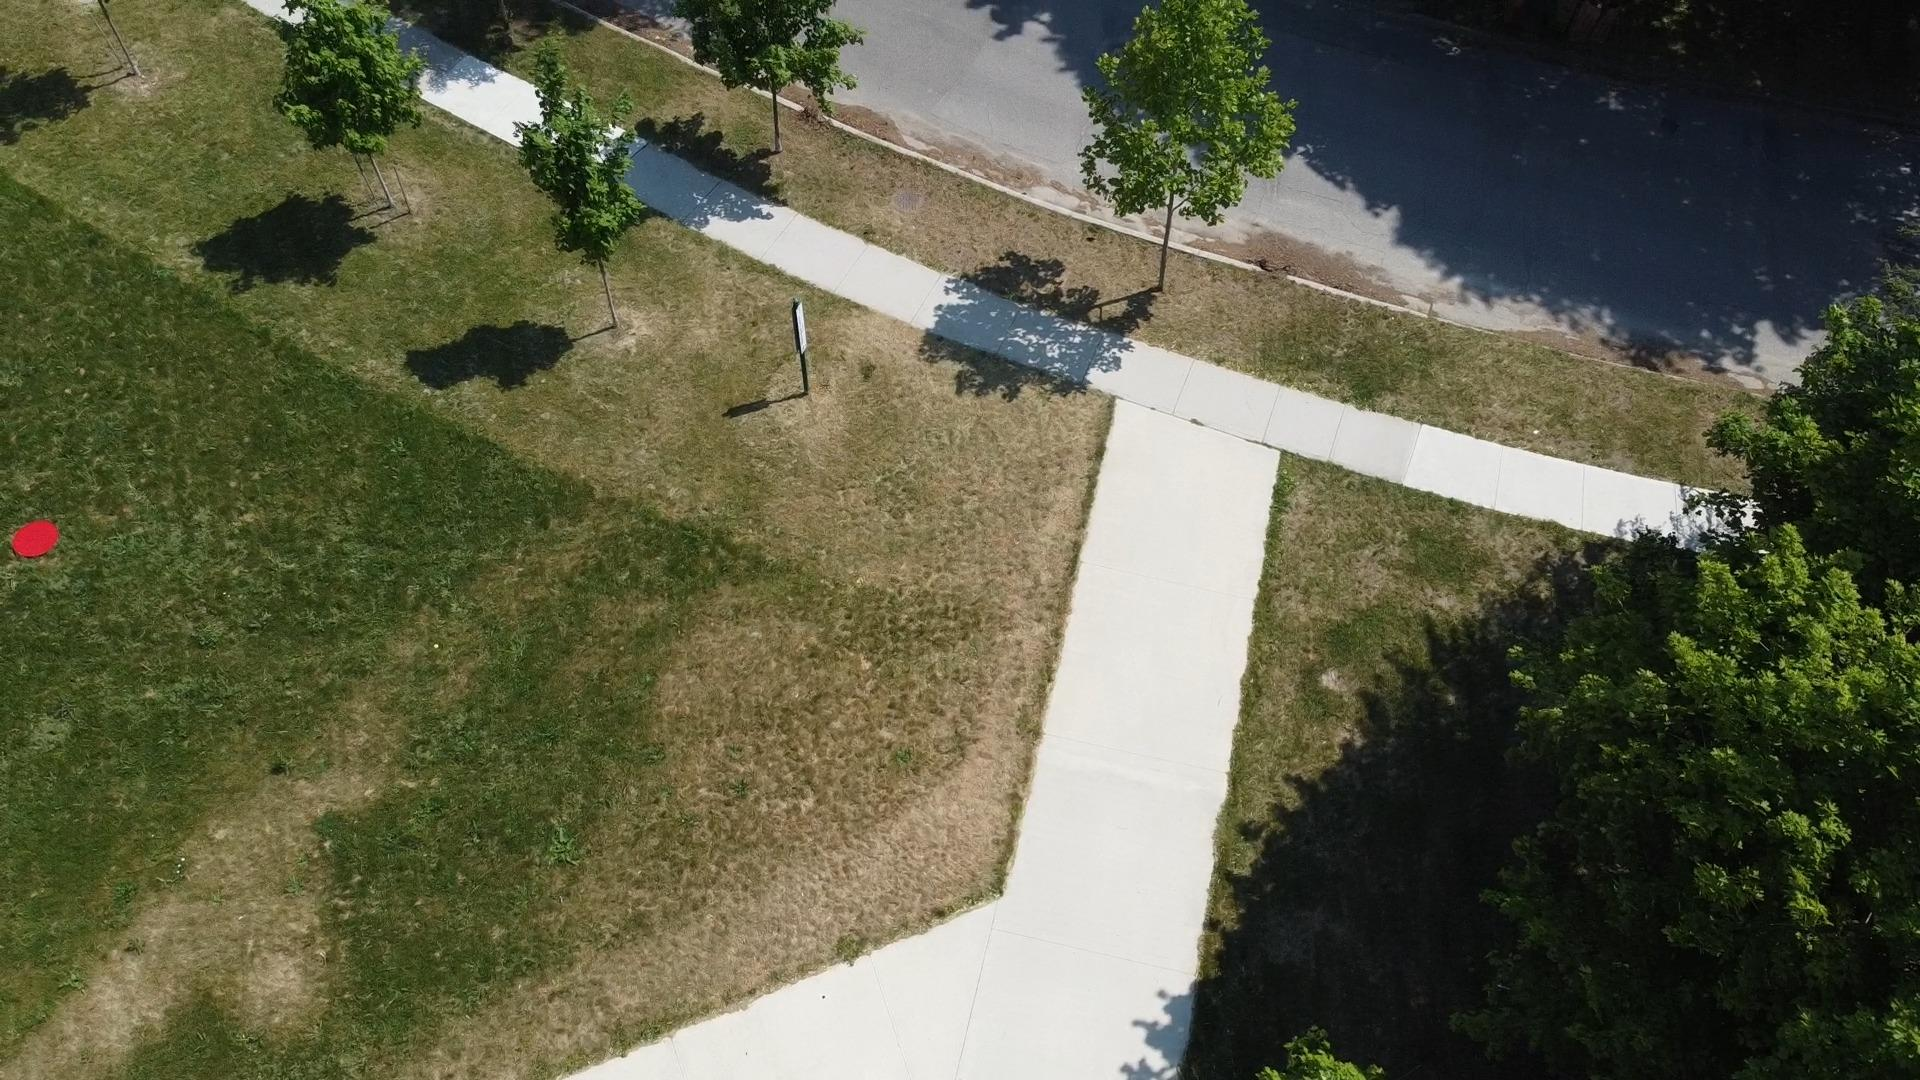Red: (11, 518, 61, 559)
